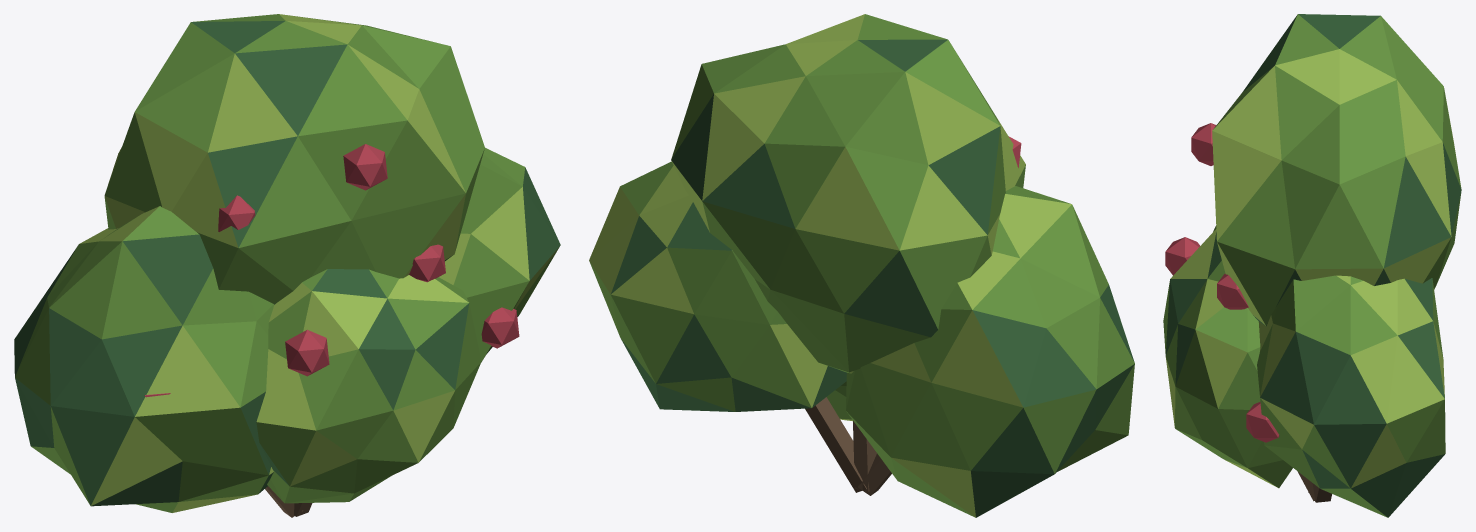
Rendered from berry-shrub.glb.
3 renders of one model, left to right at view 1: azimuth 30°, elevation 25°; view 2: azimuth 150°, elevation 25°; view 3: azimuth 270°, elevation 25°, orthographic. The views are drawn at different scales.
Parts seen in each view (by area): view 1: Static_mesh; view 2: Static_mesh; view 3: Static_mesh.
Part boxes in pixels (box(x1,y1,x2,y2)): Static_mesh: box(14, 14, 560, 517); Static_mesh: box(589, 14, 1134, 517); Static_mesh: box(1163, 14, 1461, 517).
Bounding box in the file's own units: 1.53 × 1.35 × 0.8108.
